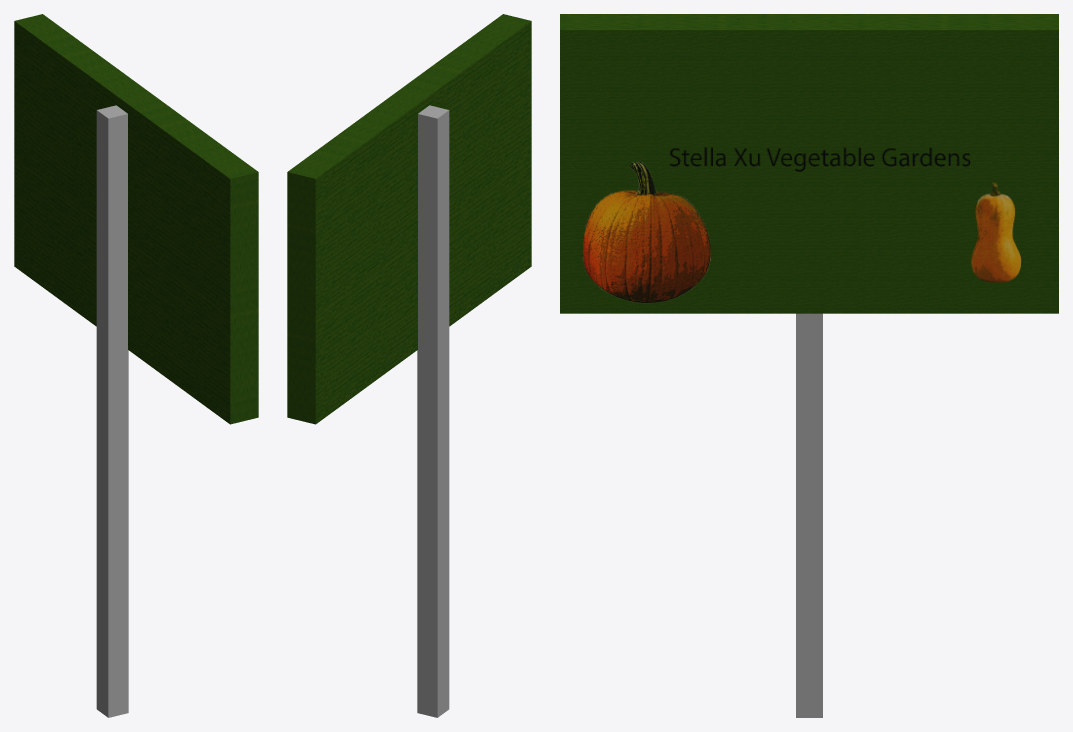
File: stellasign.fbx
3 renders of one model, left to right at view 1: azimuth 30°, elevation 25°; view 2: azimuth 150°, elevation 25°; view 3: azimuth 270°, elevation 25°, orthographic. The views are drawn at different scales.
Parts seen in each view (by area): view 1: sign, pole; view 2: sign, pole; view 3: sign, pole.
Boxes of the visible parts, left/top/right/bottom form: sign: left=14, top=14, right=258, bottom=424; pole: left=96, top=105, right=128, bottom=717; sign: left=287, top=14, right=531, bottom=424; pole: left=417, top=105, right=449, bottom=717; sign: left=560, top=14, right=1058, bottom=313; pole: left=796, top=313, right=822, bottom=717.
Size of the model in its own units: 0.0413 by 0.4987 by 0.3204.
